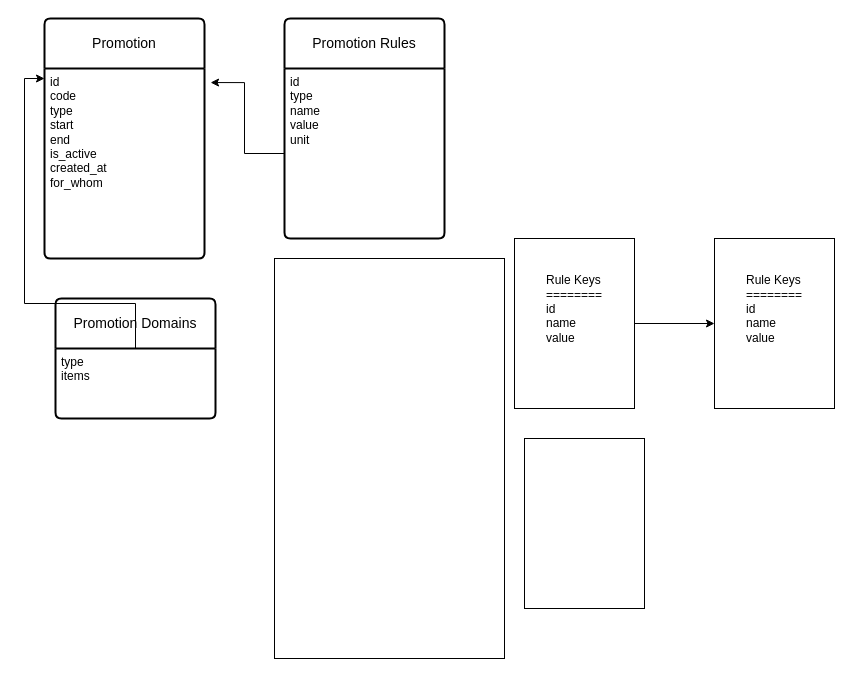
Some shapes in this 852 by 676 pixel diagram are drawn without their labels. The shapes that lost their labels are listed below. From the top down, each one's centre as x and y in pixels, then its label:
At [389,458]: "id name is_active start_date end_date rule result created updated".
At [584,523]: "Result Keys ======== id name value".
